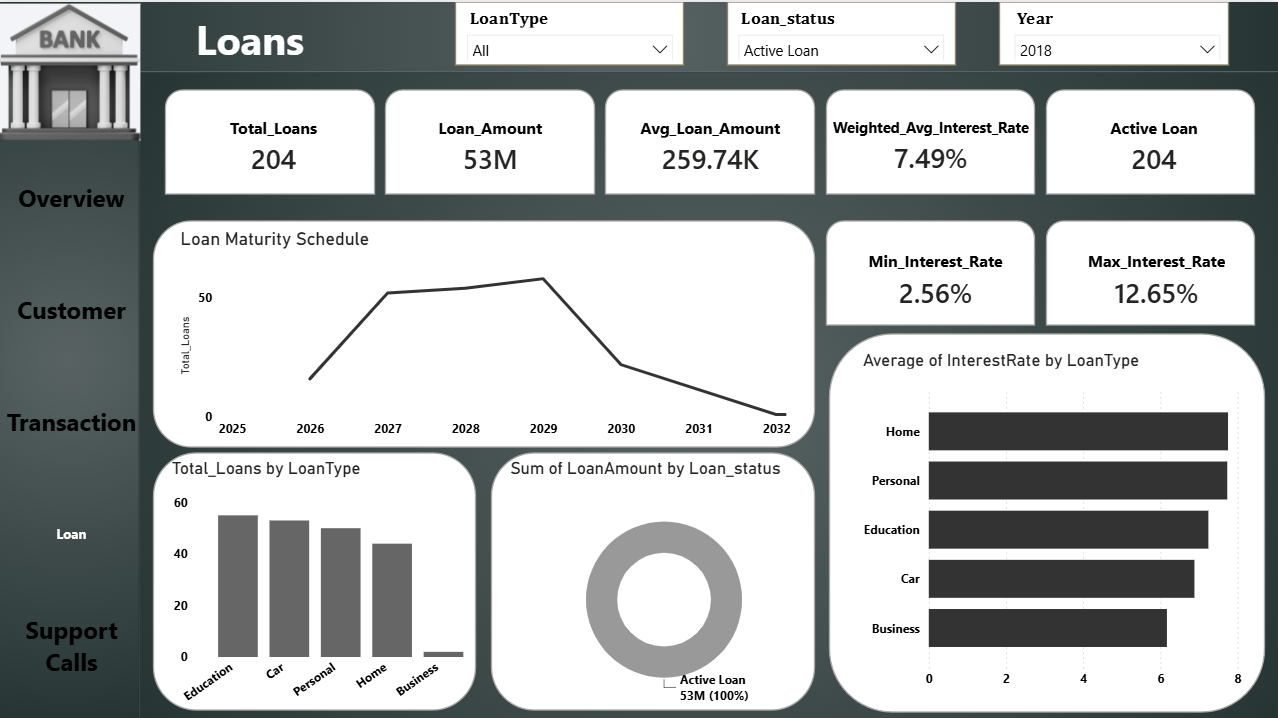

The dashboard page shown, as its layout file describes it:
{"tool":"powerbi","page":{"name":"Loan","canvas":[1280,720],"ordinal":3},"visuals":[{"type":"cardVisual","fields":{"Data":["Loans.Total_Loans"]},"box":[177.5,101.2,196.2,85],"z":0},{"type":"cardVisual","fields":{"Data":["Sum(Loans.LoanAmount)"]},"box":[378.8,101.2,227.5,85],"z":1000},{"type":"cardVisual","fields":{"Data":["Loans.Avg_Loan_Amount"]},"box":[606.2,101.2,212.5,85],"z":2000},{"type":"cardVisual","fields":{"Data":["Loans.Weighted_Avg_Interest_Rate"]},"box":[786.2,101.2,293.8,85],"z":3000},{"type":"cardVisual","fields":{"Data":["Loans.Active_Loans_Count"]},"box":[1080,101.2,152.5,85],"z":4000},{"type":"cardVisual","fields":{"Data":["Loans.Max_Interest_Rate"]},"box":[1055,235,207.5,85],"z":5000},{"type":"cardVisual","fields":{"Data":["Loans.Min_Interest_Rate"]},"box":[825,235,225,85],"z":6000},{"type":"columnChart","fields":{"Y":["Loans.Total_Loans"],"Category":["Loans.LoanType"]},"box":[168.8,456.2,323.8,263.8],"z":7000},{"type":"donutChart","fields":{"Y":["Sum(Loans.LoanAmount)"],"Category":["Loans.Loan_status"]},"box":[507.5,456.2,317.5,252.5],"z":8000},{"type":"lineChart","title":"Loan Maturity Schedule","fields":{"Y":["Loans.Total_Loans"],"Category":["Loans.LoanEndDate.Variation.Date Hierarchy.Year"]},"box":[177.5,226.2,620,218.8],"z":9000},{"type":"barChart","fields":{"Category":["Loans.LoanType"],"Y":["Avg(Loans.InterestRate)"]},"box":[860,347.5,388.8,347.5],"z":10000},{"type":"slicer","fields":{"Values":["Calender.Year"]},"box":[1006.2,0,226.2,58.8],"z":11000},{"type":"slicer","fields":{"Values":["Loans.Loan_status"]},"box":[730,0,226.2,58.8],"z":12000},{"type":"slicer","fields":{"Values":["Loans.LoanType"]},"box":[458.8,0,226.2,58.8],"z":13000},{"type":"pageNavigator","box":[0,143.8,147.5,551.2],"z":14000},{"type":"shape","box":[147.5,0,208.8,67.5],"z":15000},{"type":"image","box":[0,0,142.5,140],"z":15001}]}

Visuals, with their boxes in screenshot pixels (x1, y1, x2, y2), scaled from the page's 1280x720 canvas onto the 1278x718 screenshot:
cardVisual - Loans.Total_Loans: <bbox>177, 101, 373, 186</bbox>
cardVisual - Sum(Loans.LoanAmount): <bbox>378, 101, 605, 186</bbox>
cardVisual - Loans.Avg_Loan_Amount: <bbox>605, 101, 817, 186</bbox>
cardVisual - Loans.Weighted_Avg_Interest_Rate: <bbox>785, 101, 1078, 186</bbox>
cardVisual - Loans.Active_Loans_Count: <bbox>1078, 101, 1231, 186</bbox>
cardVisual - Loans.Max_Interest_Rate: <bbox>1053, 234, 1261, 319</bbox>
cardVisual - Loans.Min_Interest_Rate: <bbox>824, 234, 1048, 319</bbox>
columnChart - Loans.Total_Loans x Loans.LoanType: <bbox>169, 455, 492, 717</bbox>
donutChart - Sum(Loans.LoanAmount) x Loans.Loan_status: <bbox>507, 455, 824, 707</bbox>
"Loan Maturity Schedule" lineChart: <bbox>177, 226, 796, 444</bbox>
barChart - Loans.LoanType x Avg(Loans.InterestRate): <bbox>859, 347, 1247, 693</bbox>
slicer - Calender.Year: <bbox>1005, 0, 1230, 59</bbox>
slicer - Loans.Loan_status: <bbox>729, 0, 955, 59</bbox>
slicer - Loans.LoanType: <bbox>458, 0, 684, 59</bbox>
pageNavigator: <bbox>0, 143, 147, 693</bbox>
shape: <bbox>147, 0, 356, 67</bbox>
image: <bbox>0, 0, 142, 140</bbox>
